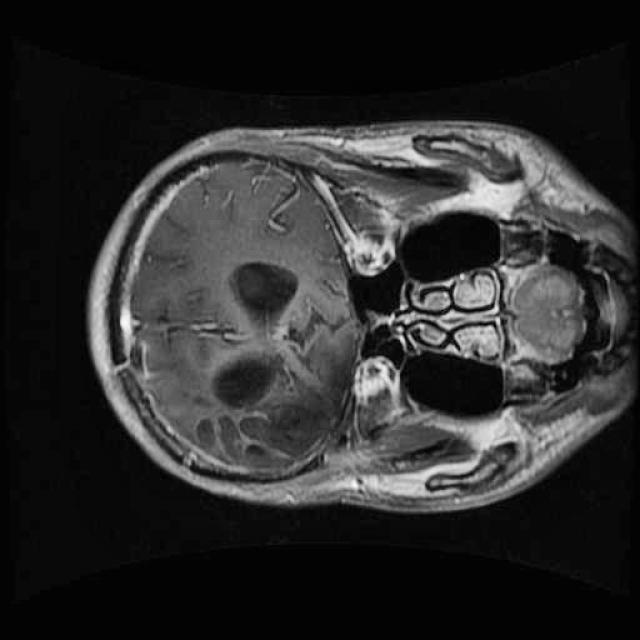Tumor: (176, 310, 364, 494)
